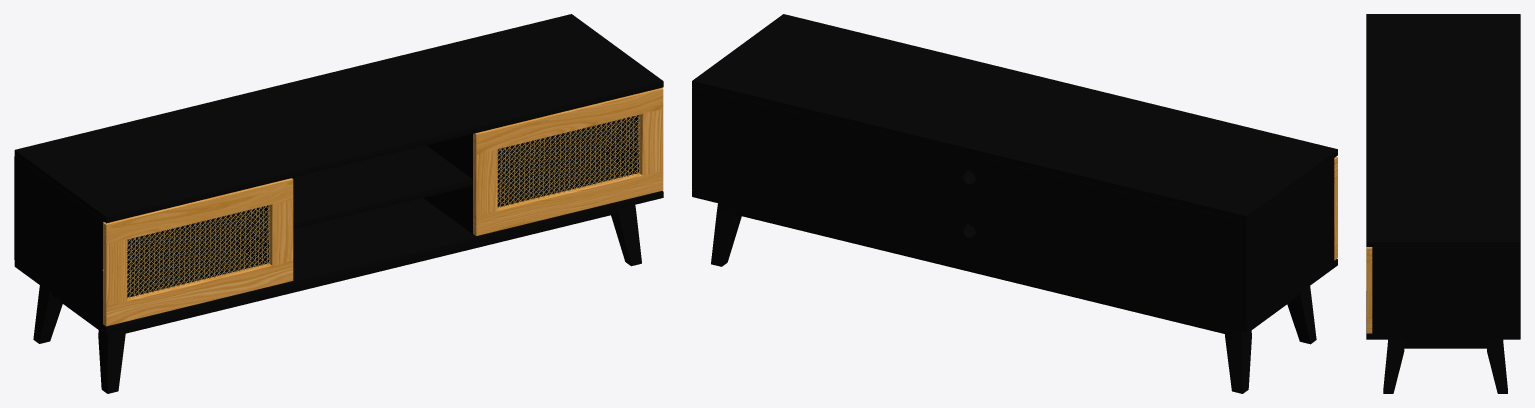
The model's file is tvshell.glb.
3 renders of one model, left to right at view 1: azimuth 30°, elevation 25°; view 2: azimuth 150°, elevation 25°; view 3: azimuth 270°, elevation 25°, orthographic. The views are drawn at different scales.
Visible parts, largest first — view 1: wood, net3, metal1; view 2: wood, metal1; view 3: wood, metal1.
Part boxes in pixels (<box>): wood: <box>14,14,663,393</box>; net3: <box>102,115,640,298</box>; metal1: <box>51,209,616,333</box>; wood: <box>692,14,1337,393</box>; metal1: <box>736,208,1298,333</box>; wood: <box>1366,14,1520,393</box>; metal1: <box>1404,339,1486,348</box>.
Size of the model in its own units: 1.4 by 0.4496 by 0.4007.
4 materials, 4 textured.
